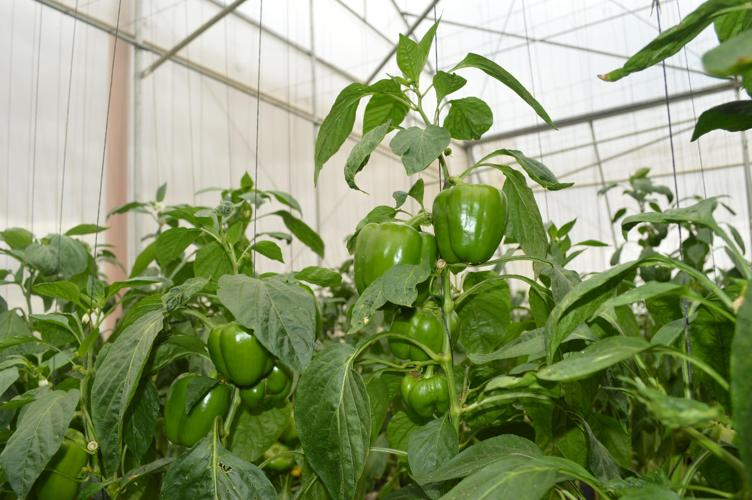BellPepper: (429, 172, 511, 272), (351, 219, 437, 314), (157, 378, 237, 462), (208, 325, 275, 385), (386, 308, 452, 367), (397, 361, 453, 426)
